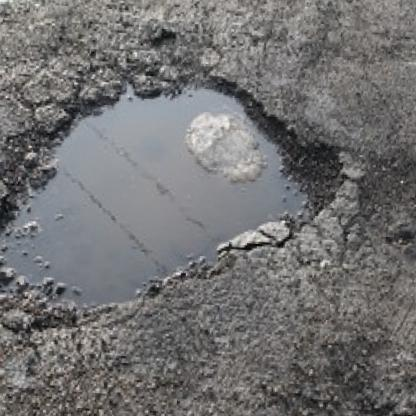pothole: (0, 52, 354, 341)
